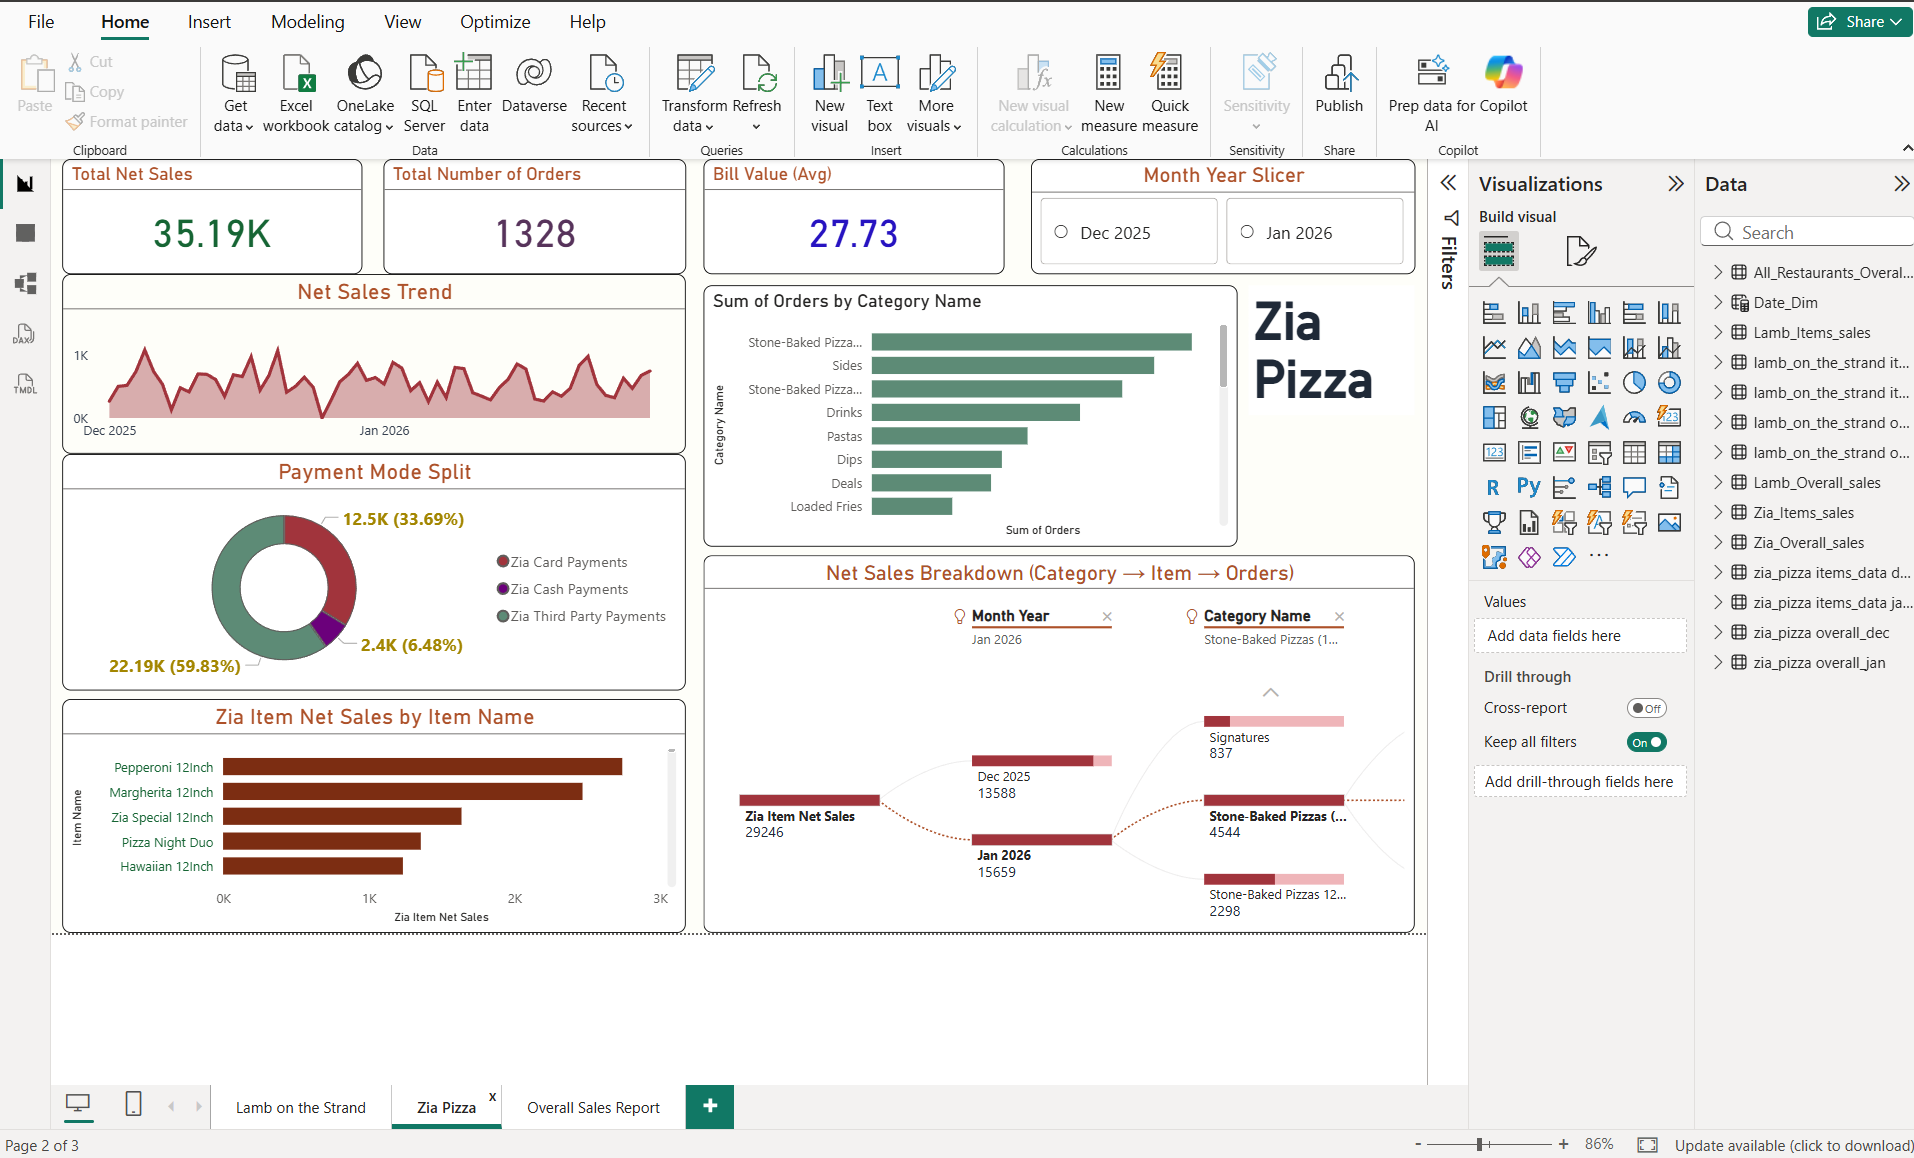

What the dashboard file says about the page in this screenshot:
{"tool":"powerbi","page":{"name":"Zia Pizza","canvas":[1280,720],"ordinal":1},"visuals":[{"type":"card","title":"Total Net Sales","fields":{"Values":["Zia_Overall_sales.Zia Total Net Sales"]},"box":[10.5,0,279.1,107],"z":0},{"type":"card","title":"Total Number of Orders","fields":{"Values":["Zia_Overall_sales.Zia Total Orders"]},"box":[308.8,0,281.2,107.5],"z":1000},{"type":"card","title":"Bill Value (Avg)","fields":{"Values":["Zia_Overall_sales.Zia Avg Bill"]},"box":[607.5,0,280,107.5],"z":2000},{"type":"lineChart","title":"Net Sales Trend","fields":{"Category":["Zia_Overall_sales.Date.Variation.Date Hierarchy.Year"],"Y":["Zia_Overall_sales.Zia Total Net Sales"]},"box":[10,107.5,580,167.5],"z":3000},{"type":"pieChart","title":"Payment Mode Split","fields":{"Y":["Zia_Overall_sales.Zia Card Payments","Zia_Overall_sales.Zia Cash Payments","Zia_Overall_sales.Zia Third Party Payments"]},"box":[10.5,274.4,580.2,219.8],"z":4000},{"type":"clusteredBarChart","fields":{"Y":["Zia_Items_sales.Zia Item Net Sales"],"Category":["Zia_Items_sales.Item Name"]},"box":[10.5,502.3,580.2,217.4],"z":6000},{"type":"decompositionTreeVisual","title":"Net Sales Breakdown (Category → Item → Orders)","fields":{"Analyze":["Zia_Items_sales.Zia Item Net Sales"],"ExplainBy":["Date_Dim.Month Year","Zia_Items_sales.Category Name","Zia_Items_sales.Item Name","Zia_Items_sales.Orders"]},"box":[607.5,368.8,661.2,351.2],"z":7000},{"type":"advancedSlicerVisual","title":"Month Year Slicer","fields":{"Values":["Date_Dim.Month Year"],"Label":["Min(Date_Dim.Month Name)"]},"box":[911.2,0,357.5,107.5],"z":8000},{"type":"textbox","box":[1114,117.4,154.7,120.9],"z":9000},{"type":"clusteredBarChart","fields":{"Category":["Zia_Items_sales.Category Name"],"Y":["Sum(Zia_Items_sales.Orders)"]},"box":[607.1,117.1,497.1,242.9],"z":10000}]}

Visuals, with their boxes on the page's 1280x720 design canvas (x1, y1, x2, y2). These are canvas units, not pixel positions in the 1914x1158 screenshot, which may show the page scaled, cropped or inside an application window:
"Total Net Sales" card: 10 0 290 107
"Total Number of Orders" card: 309 0 590 108
"Bill Value (Avg)" card: 608 0 888 108
"Net Sales Trend" lineChart: 10 108 590 275
"Payment Mode Split" pieChart: 10 274 591 494
clusteredBarChart - Zia_Items_sales.Zia Item Net Sales x Zia_Items_sales.Item Name: 10 502 591 720
"Net Sales Breakdown (Category → Item → Orders)" decompositionTreeVisual: 608 369 1269 720
"Month Year Slicer" advancedSlicerVisual: 911 0 1269 108
textbox: 1114 117 1269 238
clusteredBarChart - Zia_Items_sales.Category Name x Sum(Zia_Items_sales.Orders): 607 117 1104 360
